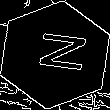N_W: (25, 31, 85, 79)
